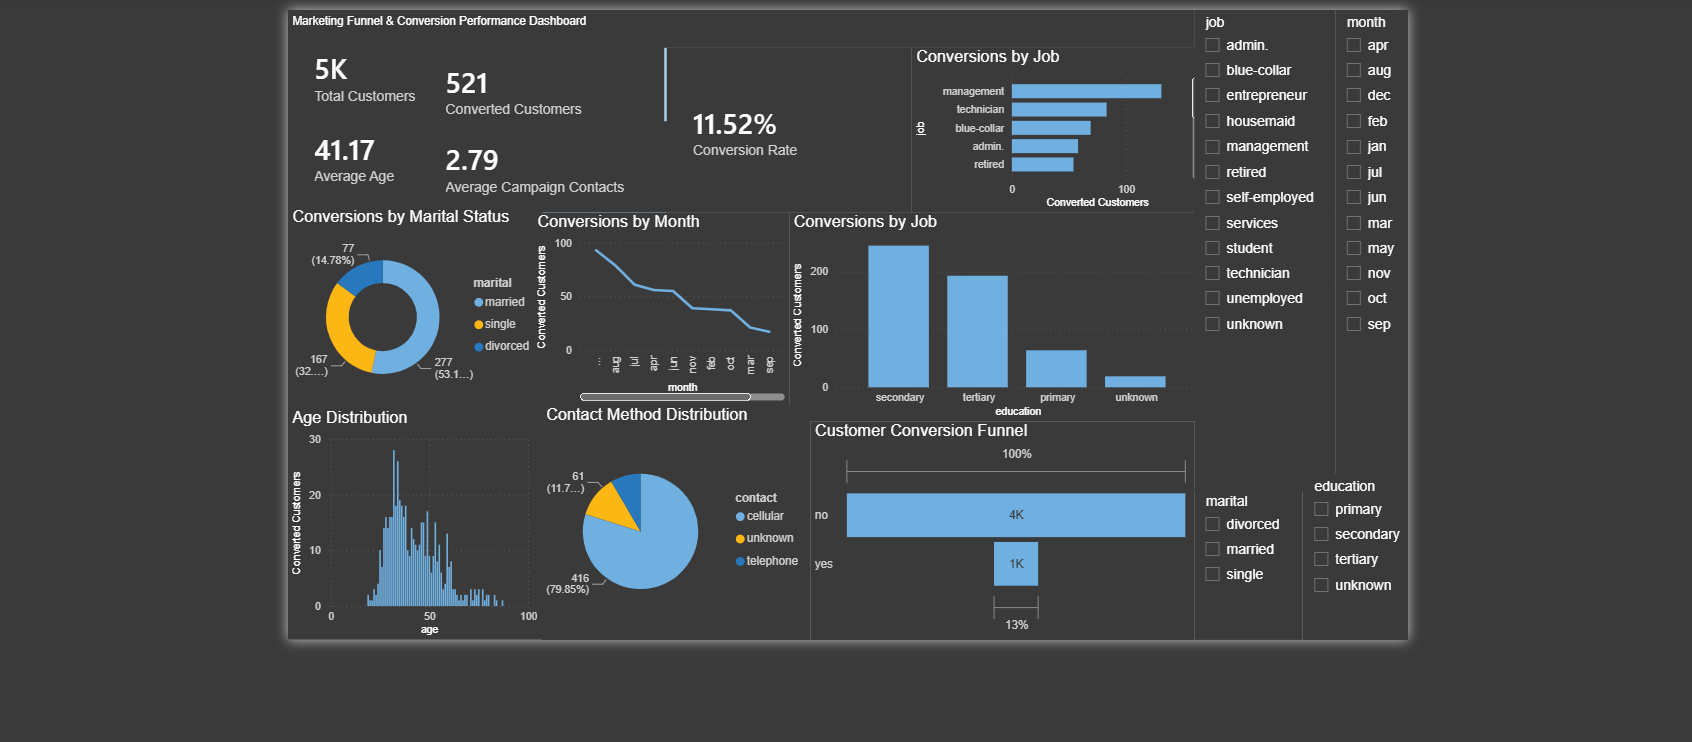

What the dashboard file says about the page in this screenshot:
{"tool":"powerbi","page":{"name":"Marketing Funnel & Conversion Performance Dashboard","canvas":[1280,720],"ordinal":0},"visuals":[{"type":"cardVisual","fields":{"Data":["bank.Total Customers"]},"box":[0,22.9,280,104.3],"z":0},{"type":"cardVisual","fields":{"Data":["bank.Converted Customers"]},"box":[150,38.6,280,104.3],"z":1000},{"type":"cardVisual","fields":{"Data":["bank.Conversion Rate"]},"box":[432.9,42.9,280,188.6],"z":2000},{"type":"cardVisual","fields":{"Data":["bank.Average Age"]},"box":[0,108.6,165.7,118.6],"z":3000},{"type":"cardVisual","fields":{"Data":["bank.Average Campaign Contacts"]},"box":[150,127.1,282.9,104.3],"z":4000},{"type":"funnel","title":"Customer Conversion Funnel","fields":{"Category":["bank.y"],"Y":["bank.Total Customers"]},"box":[597.1,470,438.6,250],"z":5000},{"type":"clusteredBarChart","title":"Conversions by Job","fields":{"Category":["bank.job"],"Y":["bank.Converted Customers"]},"box":[712.9,42.9,334.3,188.6],"z":6000},{"type":"clusteredColumnChart","title":"Conversions by Job","fields":{"Category":["bank.education"],"Y":["bank.Converted Customers"]},"box":[572.9,231.4,474.3,238.6],"z":7000},{"type":"donutChart","title":"Conversions by Marital Status","fields":{"Category":["bank.marital"],"Y":["bank.Converted Customers"]},"box":[0,225.7,290,230],"z":8000},{"type":"lineChart","title":"Conversions by Month","fields":{"Category":["bank.month"],"Y":["bank.Converted Customers"]},"box":[280,231.4,292.9,220],"z":9000},{"type":"clusteredColumnChart","title":"Age Distribution","fields":{"Category":["bank.age"],"Y":["bank.Converted Customers"]},"box":[0,455.7,290,264.3],"z":10000},{"type":"pieChart","title":"Contact Method Distribution","fields":{"Category":["bank.contact"],"Y":["bank.Converted Customers"]},"box":[290,451.4,307.1,268.6],"z":11000},{"type":"slicer","fields":{"Values":["bank.month"]},"box":[1197.1,0,82.9,530],"z":12000},{"type":"slicer","fields":{"Values":["bank.job"]},"box":[1035.7,0,161.4,550],"z":13000},{"type":"slicer","fields":{"Values":["bank.education"]},"box":[1160,530,120,190],"z":14000},{"type":"slicer","fields":{"Values":["bank.marital"]},"box":[1035.7,547.1,124.3,172.9],"z":15000},{"type":"textbox","box":[0,0,1035.7,42.9],"z":16000}]}

Visuals, with their boxes on the page's 1280x720 design canvas (x1, y1, x2, y2). These are canvas units, not pixel positions in the 1692x742 screenshot, which may show the page scaled, cropped or inside an application window:
cardVisual - bank.Total Customers: box=[0, 23, 280, 127]
cardVisual - bank.Converted Customers: box=[150, 39, 430, 143]
cardVisual - bank.Conversion Rate: box=[433, 43, 713, 232]
cardVisual - bank.Average Age: box=[0, 109, 166, 227]
cardVisual - bank.Average Campaign Contacts: box=[150, 127, 433, 231]
"Customer Conversion Funnel" funnel: box=[597, 470, 1036, 720]
"Conversions by Job" clusteredBarChart: box=[713, 43, 1047, 232]
"Conversions by Job" clusteredColumnChart: box=[573, 231, 1047, 470]
"Conversions by Marital Status" donutChart: box=[0, 226, 290, 456]
"Conversions by Month" lineChart: box=[280, 231, 573, 451]
"Age Distribution" clusteredColumnChart: box=[0, 456, 290, 720]
"Contact Method Distribution" pieChart: box=[290, 451, 597, 720]
slicer - bank.month: box=[1197, 0, 1280, 530]
slicer - bank.job: box=[1036, 0, 1197, 550]
slicer - bank.education: box=[1160, 530, 1280, 720]
slicer - bank.marital: box=[1036, 547, 1160, 720]
textbox: box=[0, 0, 1036, 43]
